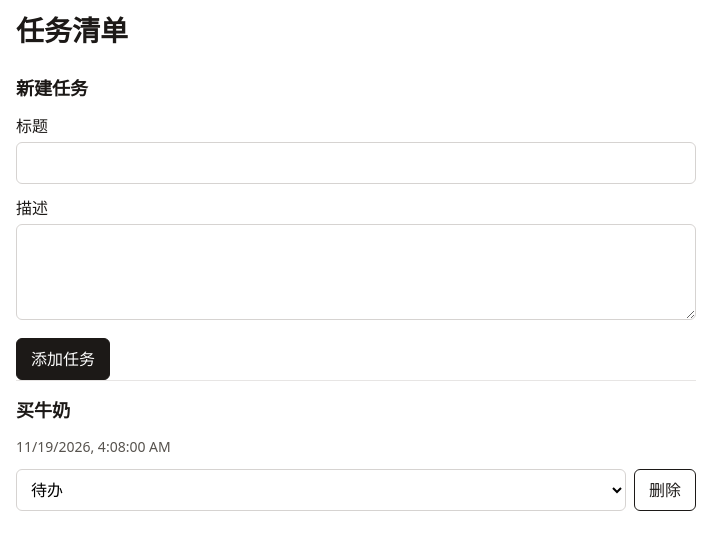
Test: deletes only after confirm
The width and height of the screenshot is (713, 544).
Check: the element with test id "task-item-1" is shown, box [16,380,696,527]
Click the button with test id "task-delete-1": (665, 490) [634,469,696,511]
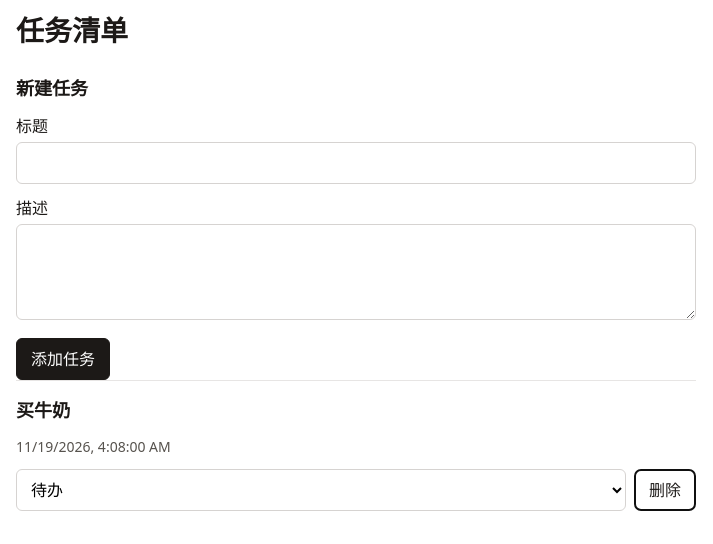
Click the button with test id "task-delete-1": (665, 490) [634,469,696,511]
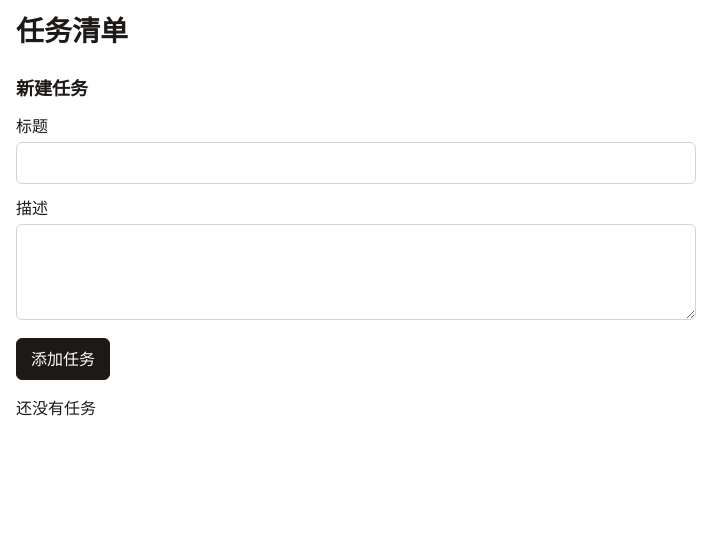
Check: the text "还没有任务" is shown, box [16,397,96,419]
